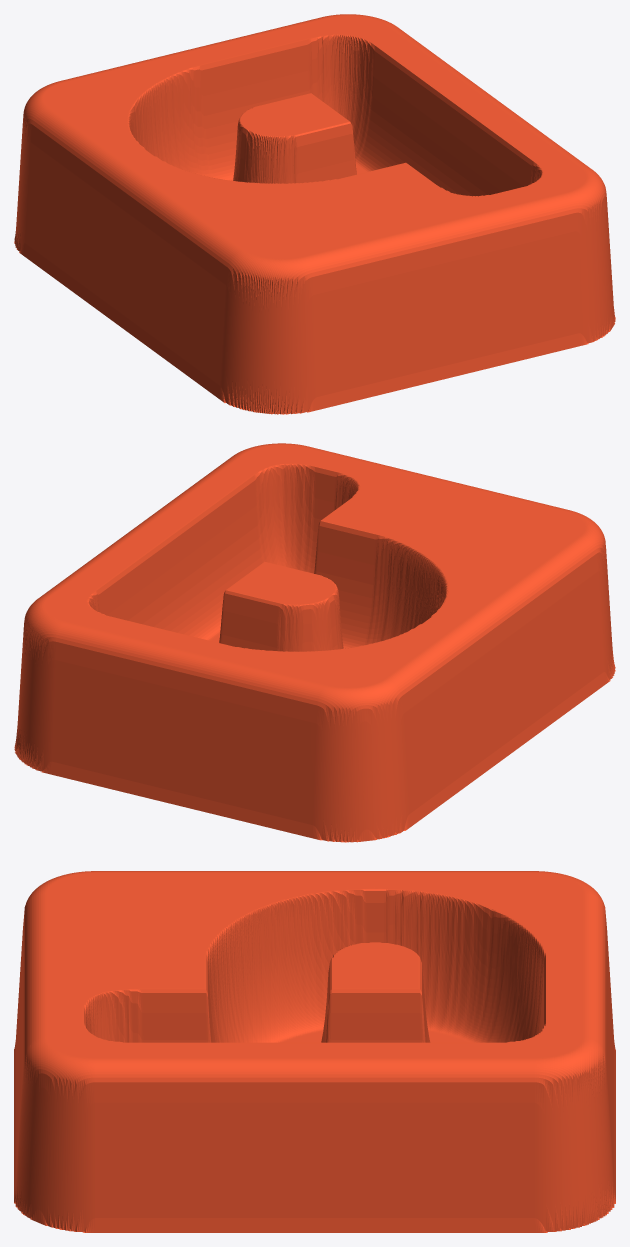
Rendered from mold.glb.
The picture shows the model from 3 angles, top to bottom: view 1: azimuth 30°, elevation 25°; view 2: azimuth 150°, elevation 25°; view 3: azimuth 270°, elevation 25°; orthographic projection. The views are drawn at different scales.
Parts seen in each view (by area): view 1: geometry_0; view 2: geometry_0; view 3: geometry_0.
Boxes of the visible parts, x1=… form: geometry_0: x1=14, y1=14, x2=615, y2=414; geometry_0: x1=14, y1=443, x2=615, y2=842; geometry_0: x1=14, y1=871, x2=615, y2=1232.
Bounding box in the file's own units: 0.056 × 0.0197 × 0.067.
